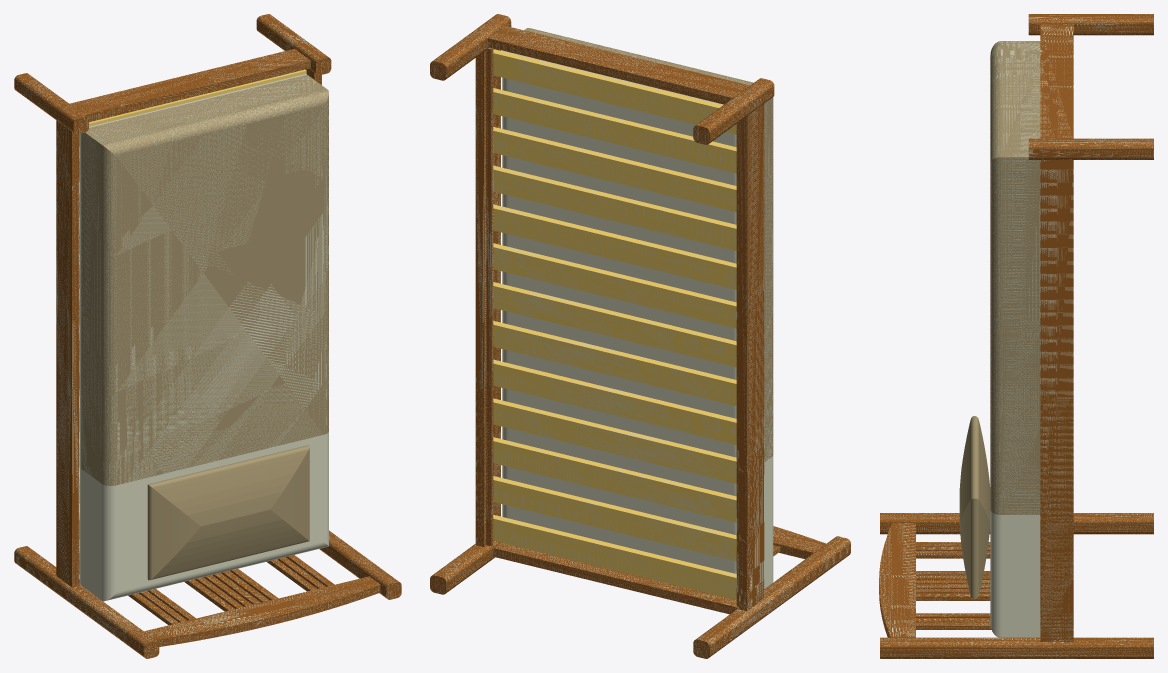
The picture shows the model from 3 angles, left to right: view 1: azimuth 30°, elevation 25°; view 2: azimuth 150°, elevation 25°; view 3: azimuth 270°, elevation 25°; orthographic projection. The views are drawn at different scales.
Visible parts, largest first — view 1: bed; view 2: bed; view 3: bed.
Boxes of the visible parts, x1,y1,x2,y2 form: bed: [14, 14, 401, 658]; bed: [430, 14, 850, 658]; bed: [879, 14, 1153, 658].
Size of the model in its own units: 46.65 by 84.65 by 40.91.
